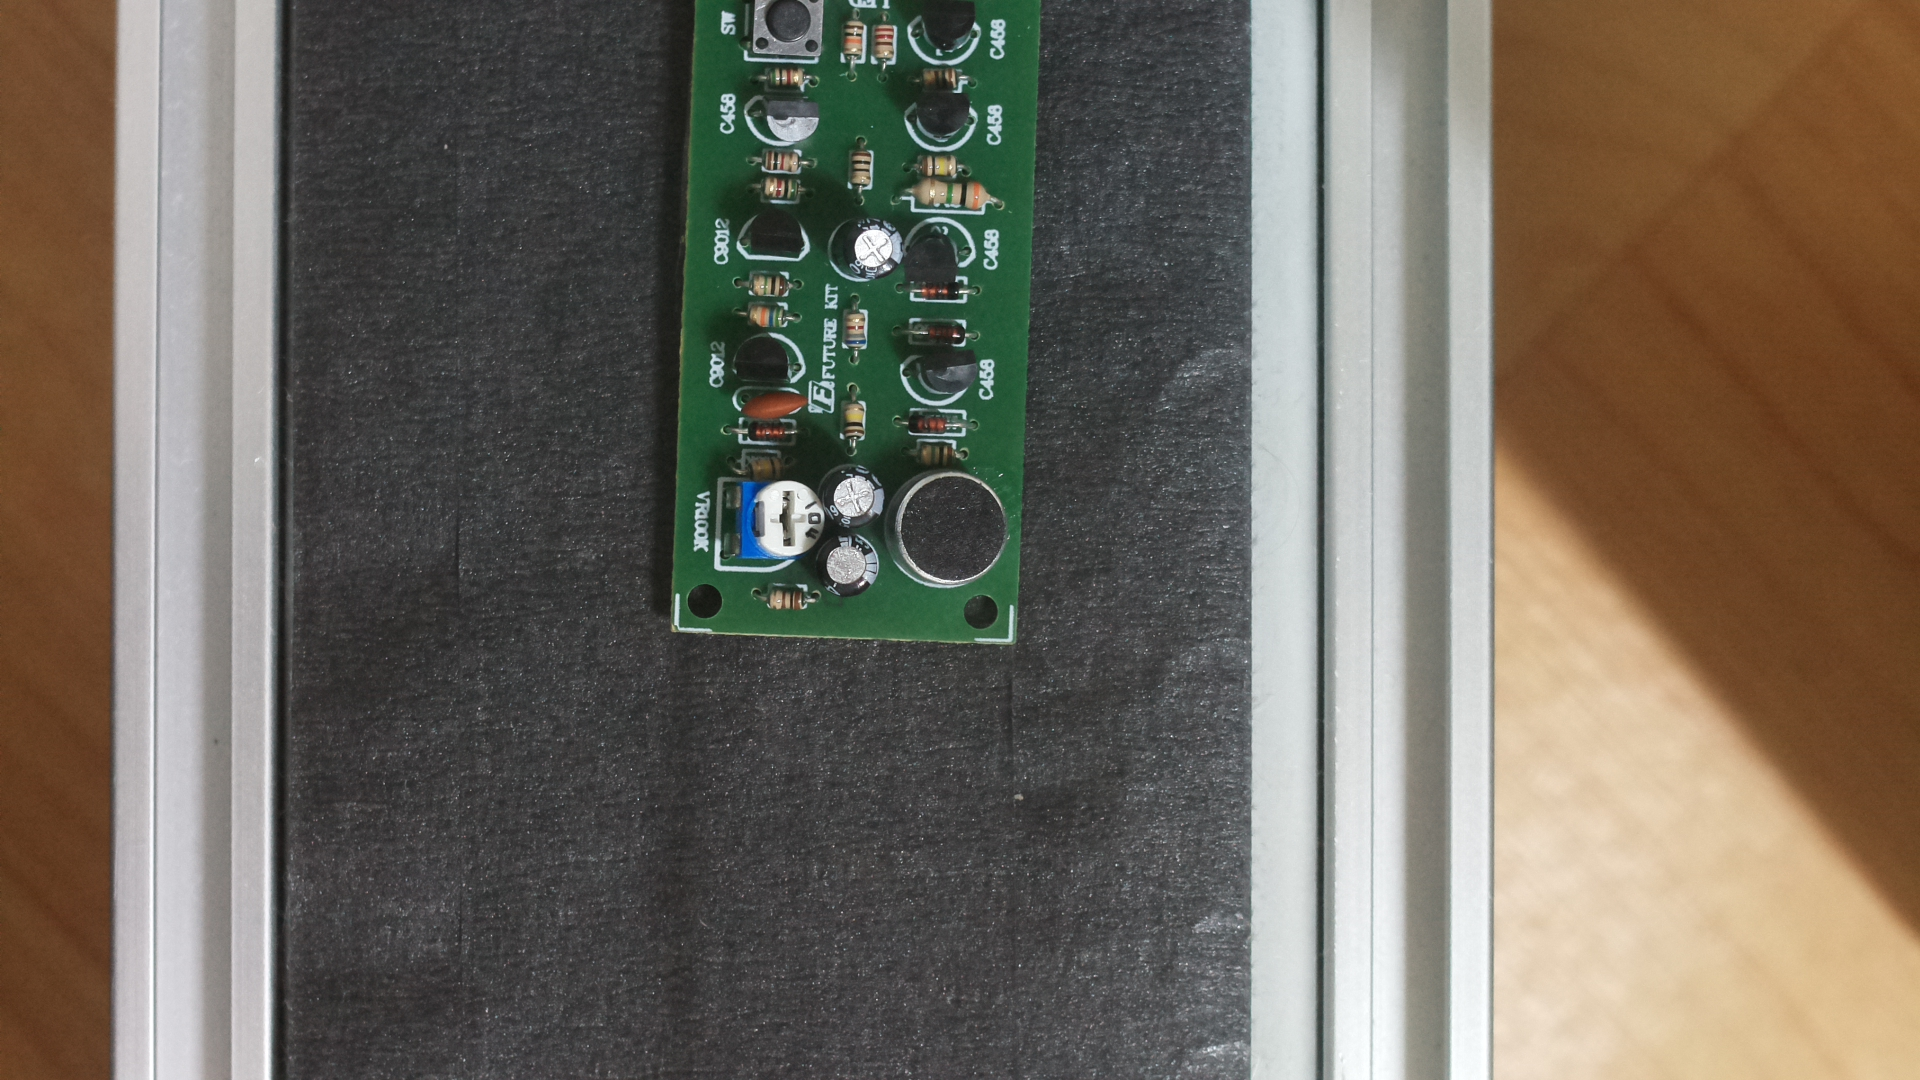A_Normal: (665, 3, 1055, 645)
